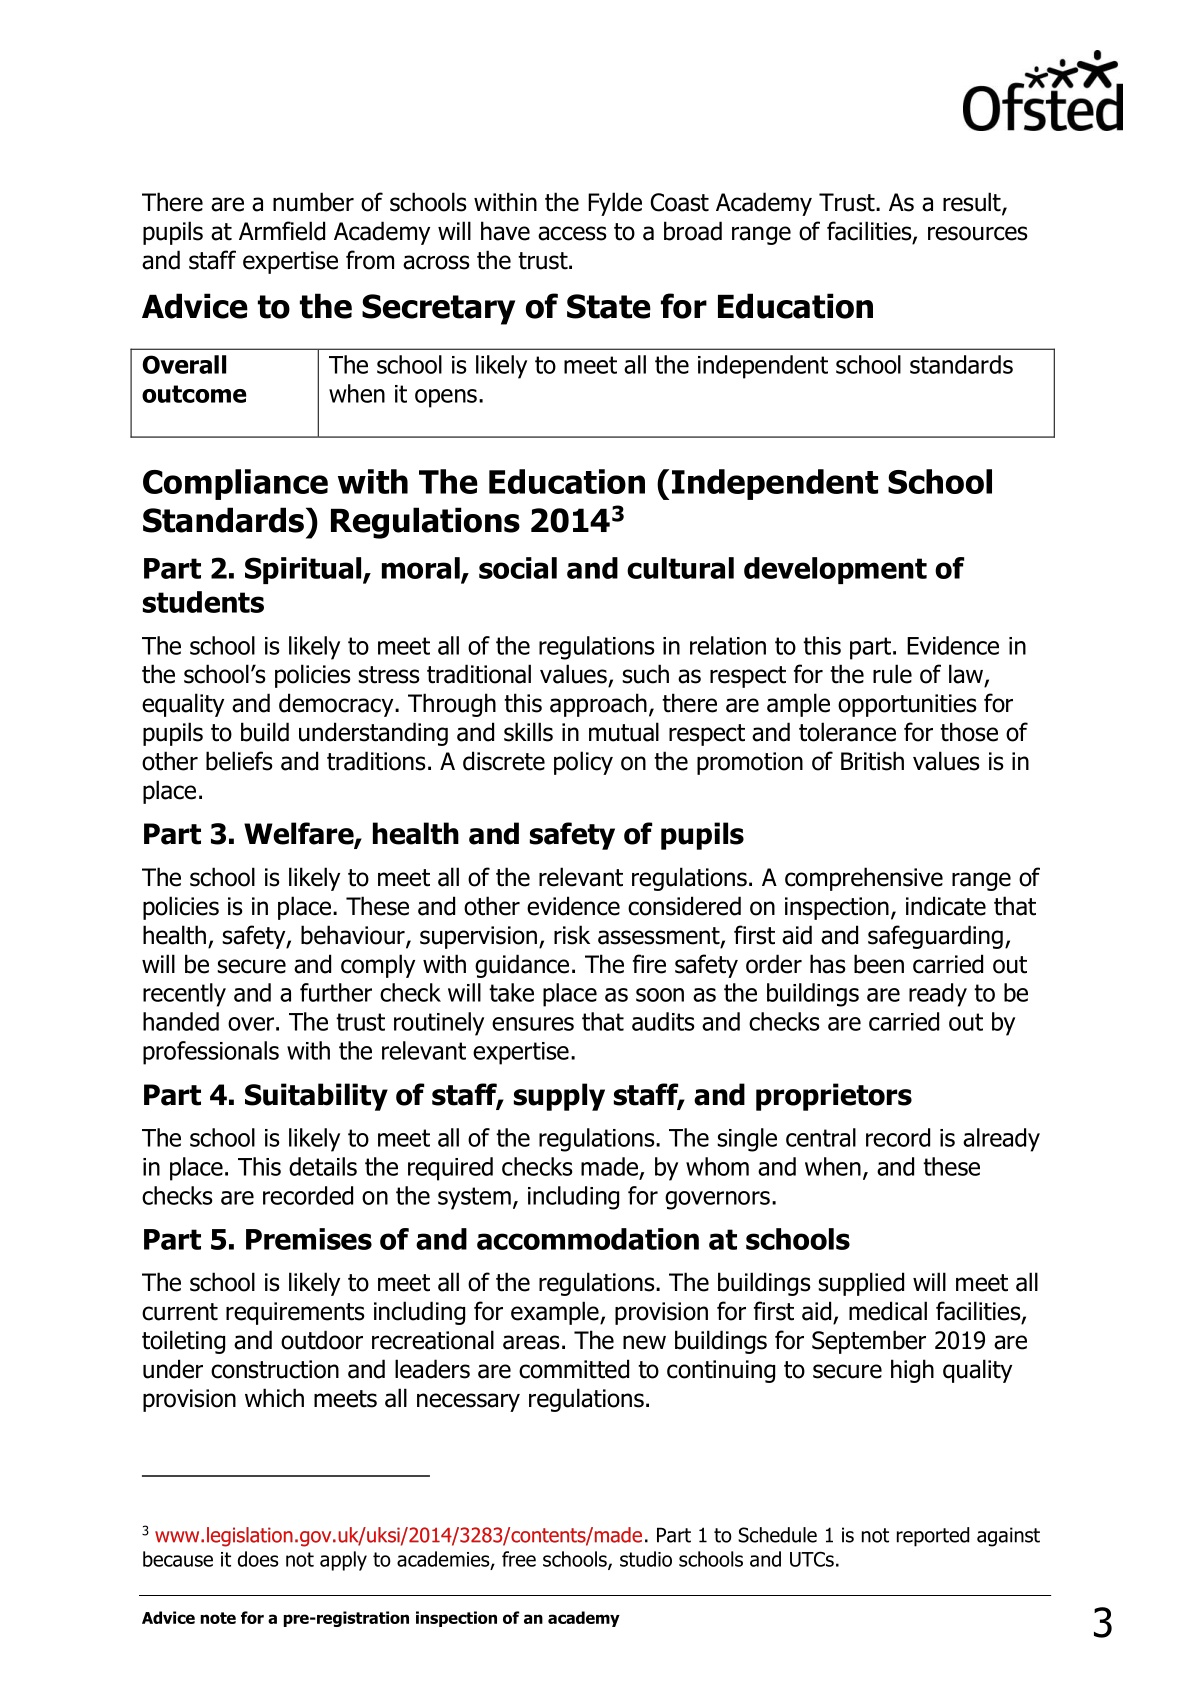full_lined: (130, 348, 1056, 439)
